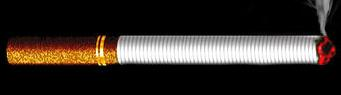smoke: (6, 34, 334, 64)
